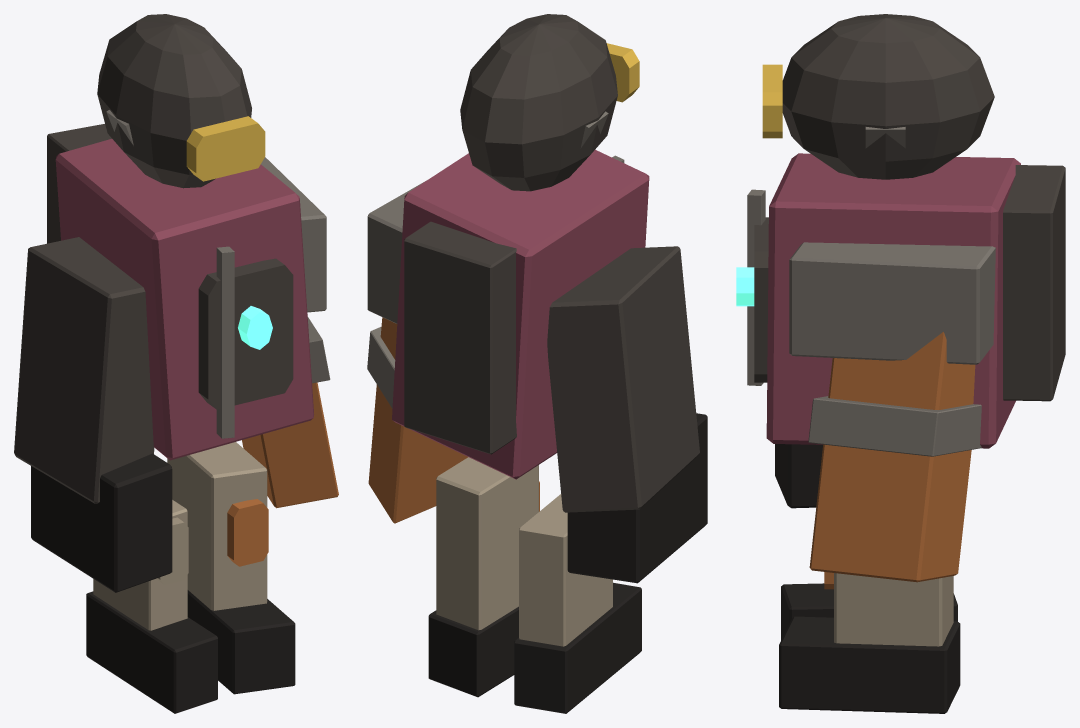
Rendered from enemy_standard__damaged.glb.
3 views of the same model, side by side, from view 1: azimuth 30°, elevation 25°; view 2: azimuth 150°, elevation 25°; view 3: azimuth 270°, elevation 25° (orthographic). The views are drawn at different scales.
Parts seen in each view (by area): view 1: ROLE_primary, ROLE_threat, ROLE_rubber, ROLE_secondary, ROLE_accent, ROLE_bareMetal, ROLE_warning, ROLE_interaction; view 2: ROLE_primary, ROLE_threat, ROLE_rubber, ROLE_secondary, ROLE_accent, ROLE_bareMetal, ROLE_warning; view 3: ROLE_primary, ROLE_bareMetal, ROLE_threat, ROLE_accent, ROLE_rubber, ROLE_secondary, ROLE_warning, ROLE_interaction.
Part boxes in pixels (x1,y1,x2,y2): ROLE_primary: [14, 14, 293, 503]; ROLE_threat: [55, 139, 314, 460]; ROLE_rubber: [31, 453, 295, 713]; ROLE_secondary: [93, 442, 267, 630]; ROLE_accent: [227, 382, 338, 566]; ROLE_bareMetal: [106, 110, 330, 438]; ROLE_warning: [186, 116, 265, 181]; ROLE_interaction: [238, 306, 272, 349]; ROLE_primary: [404, 14, 699, 512]; ROLE_threat: [392, 149, 649, 479]; ROLE_rubber: [428, 413, 707, 713]; ROLE_secondary: [436, 457, 612, 646]; ROLE_accent: [368, 317, 539, 523]; ROLE_bareMetal: [367, 111, 624, 408]; ROLE_warning: [606, 43, 639, 102]; ROLE_primary: [754, 14, 1065, 401]; ROLE_bareMetal: [747, 127, 995, 456]; ROLE_threat: [766, 153, 1020, 448]; ROLE_accent: [809, 332, 975, 589]; ROLE_rubber: [775, 444, 960, 713]; ROLE_secondary: [834, 573, 953, 646]; ROLE_warning: [762, 64, 782, 138]; ROLE_interaction: [736, 267, 754, 306].
Bounding box in the file's own units: 2.5 × 5.43 × 2.47.
